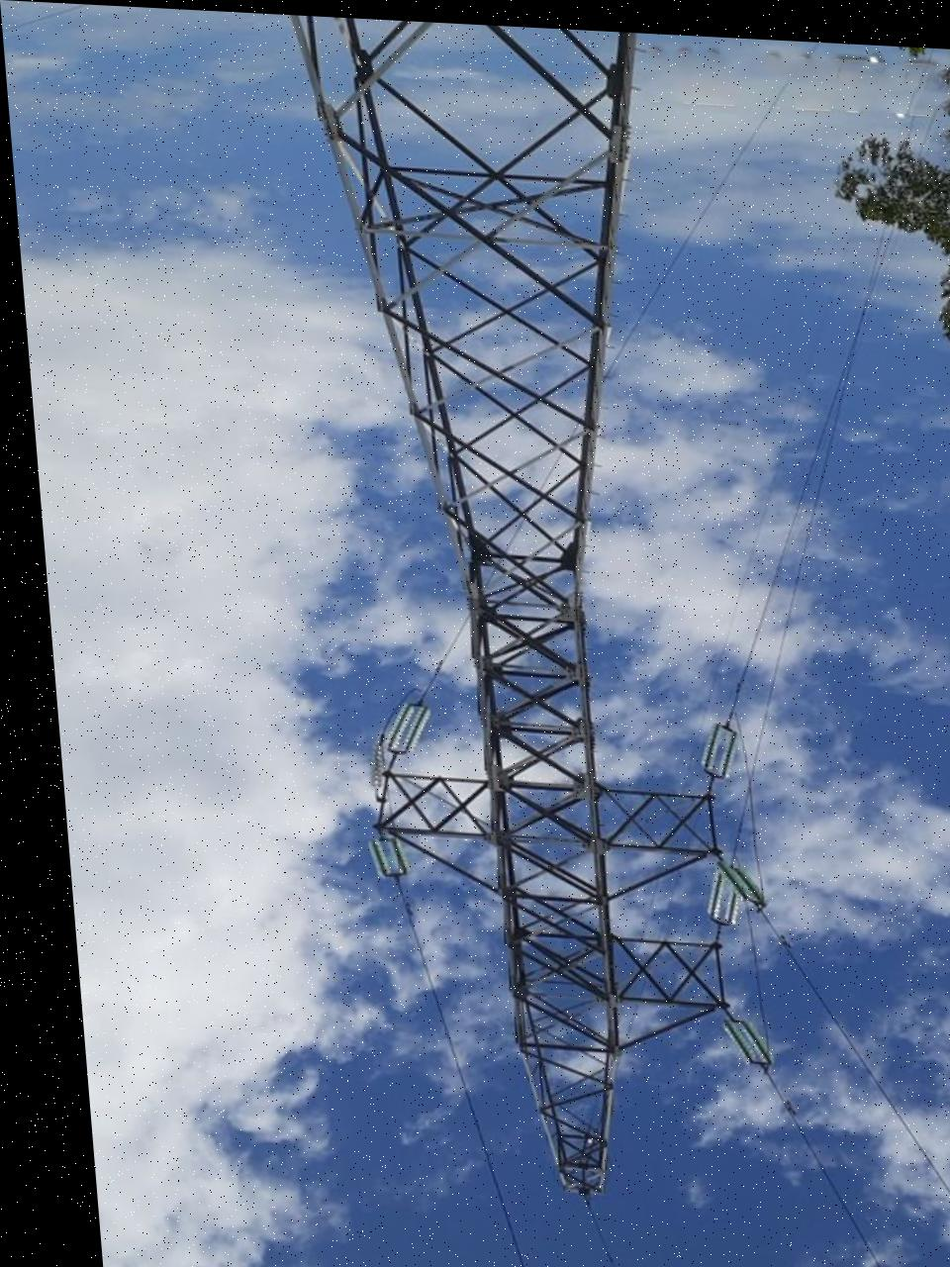tower: (263, 16, 788, 1240)
